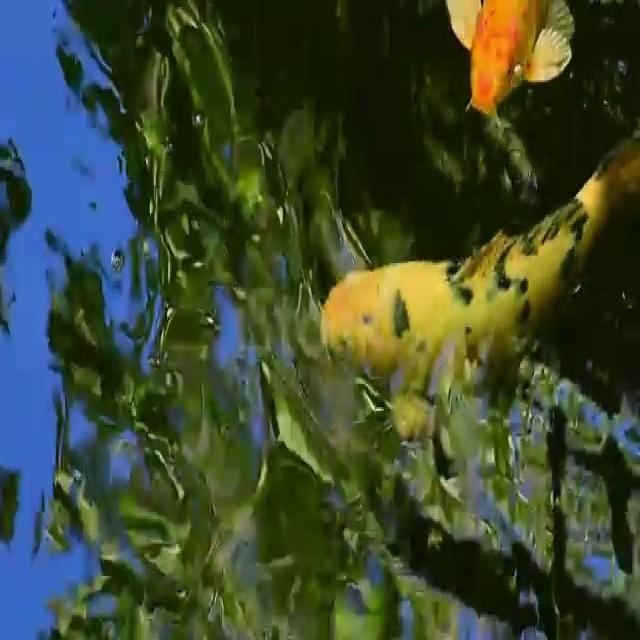fish: (306, 137, 639, 422), (434, 0, 593, 124)
